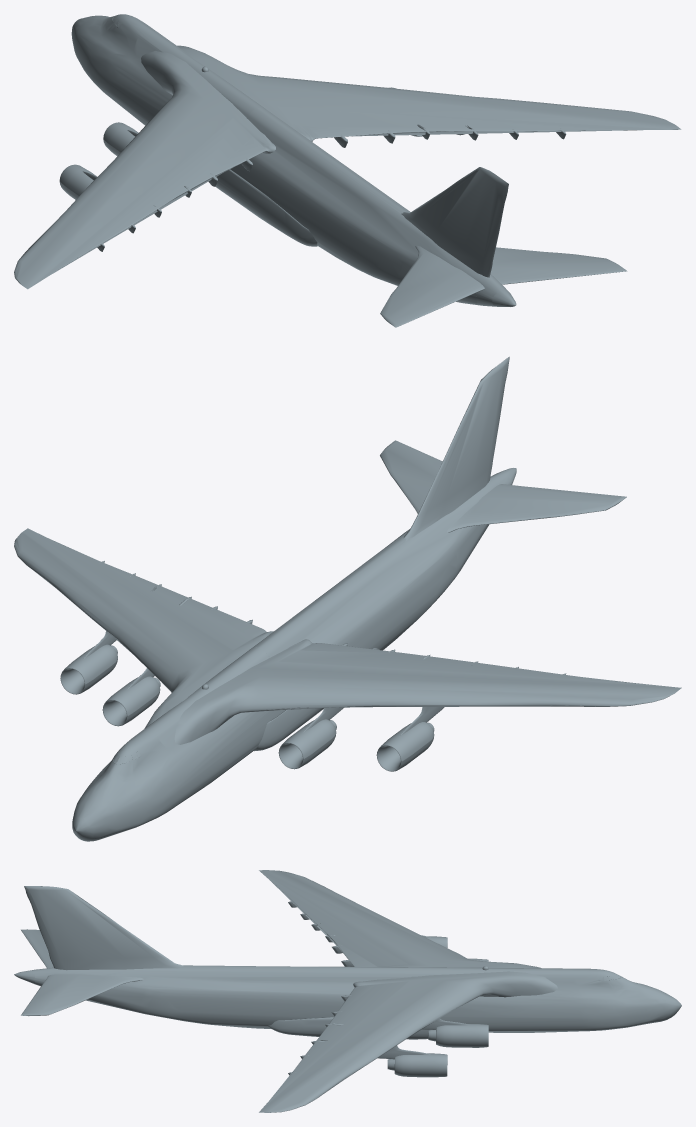
The model's file is model-aircraft-tp-4.glb.
3 renders of one model, top to bottom at view 1: azimuth 30°, elevation 25°; view 2: azimuth 150°, elevation 25°; view 3: azimuth 270°, elevation 25°, orthographic. The views are drawn at different scales.
Bounding box in the file's own units: 37.67 × 10.45 × 43.89.
